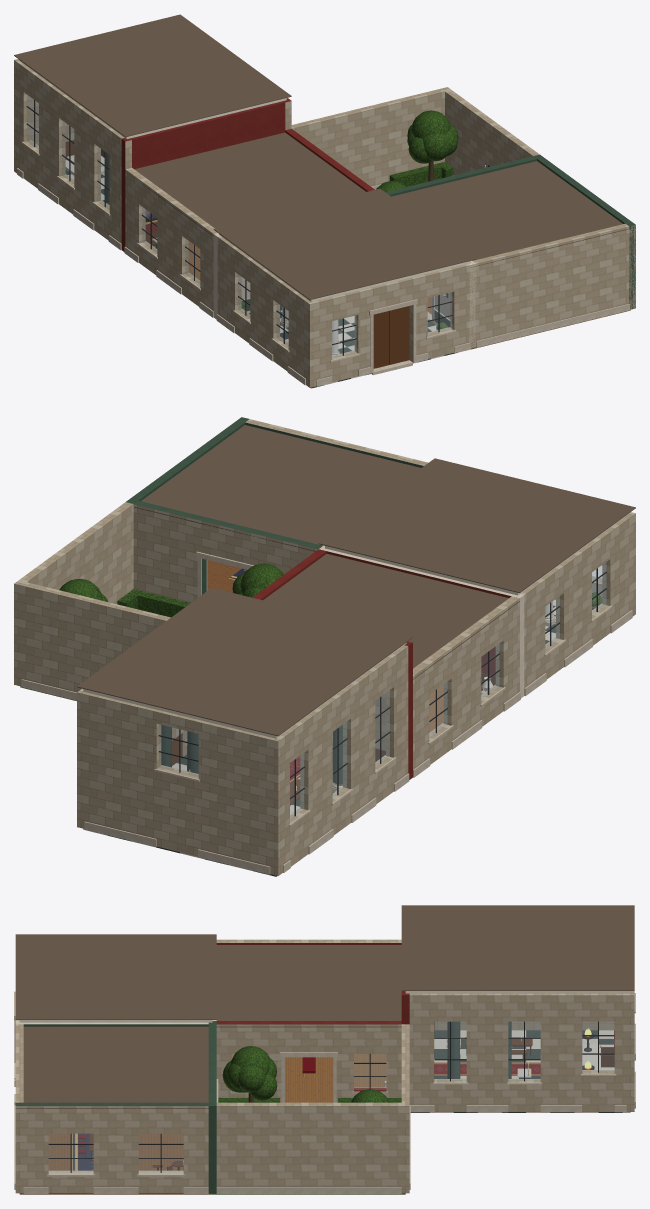
The model's file is palace.glb.
The picture shows the model from 3 angles, top to bottom: view 1: azimuth 30°, elevation 25°; view 2: azimuth 150°, elevation 25°; view 3: azimuth 270°, elevation 25°; orthographic projection. The views are drawn at different scales.
Visible parts, largest first — view 1: palace_stone_wall, palace_roof, palace_plaster_red, palace_glass, palace_limestone, palace_leaves, palace_plaster_green, palace_wood_panel, palace_plaster, palace_ceiling, palace_iron, palace_floor_marble (+1 smaller); view 2: palace_stone_wall, palace_roof, palace_glass, palace_limestone, palace_plaster_green, palace_leaves, palace_plaster_red, palace_ceiling, palace_iron, palace_marble_green, palace_plaster, palace_floor_wood; view 3: palace_roof, palace_stone_wall, palace_glass, palace_limestone, palace_floor_gallery, palace_leaves, palace_plaster_green, palace_floor_wood, palace_floor_hall, palace_plaster_red, palace_iron, palace_ceiling (+6 smaller).
Part boxes in pixels (x1,y1,x2,y2): palace_stone_wall: [14, 59, 635, 387]; palace_roof: [14, 14, 635, 299]; palace_plaster_red: [121, 98, 374, 251]; palace_glass: [27, 95, 451, 357]; palace_limestone: [17, 140, 629, 386]; palace_leaves: [241, 110, 458, 329]; palace_plaster_green: [385, 154, 635, 309]; palace_wood_panel: [65, 141, 409, 368]; palace_plaster: [213, 233, 476, 348]; palace_ceiling: [19, 60, 470, 301]; palace_iron: [26, 100, 489, 355]; palace_floor_marble: [249, 305, 470, 388]; palace_stone_wall: [14, 419, 635, 875]; palace_roof: [77, 425, 635, 736]; palace_glass: [159, 562, 606, 819]; palace_limestone: [21, 551, 632, 874]; palace_plaster_green: [126, 417, 423, 594]; palace_leaves: [59, 563, 602, 617]; palace_plaster_red: [252, 549, 511, 779]; palace_ceiling: [83, 513, 629, 738]; palace_iron: [158, 568, 606, 816]; palace_marble_green: [161, 725, 342, 784]; palace_plaster: [319, 545, 602, 698]; palace_floor_wood: [207, 560, 241, 592]; palace_roof: [15, 905, 634, 1108]; palace_stone_wall: [15, 939, 634, 1193]; palace_glass: [49, 1022, 614, 1172]; palace_limestone: [14, 991, 635, 1193]; palace_floor_gallery: [232, 1053, 386, 1102]; palace_leaves: [218, 1046, 401, 1102]; palace_plaster_green: [15, 1021, 216, 1193]; palace_floor_wood: [19, 1133, 212, 1194]; palace_floor_hall: [410, 1030, 630, 1112]; palace_plaster_red: [216, 943, 409, 1091]; palace_iron: [48, 1021, 614, 1172]; palace_ceiling: [19, 991, 630, 1022].
Size of what is drawn, in the model's own units: 24.66 by 8.55 by 38.68.
Materials: 43 (25 with a texture image).
